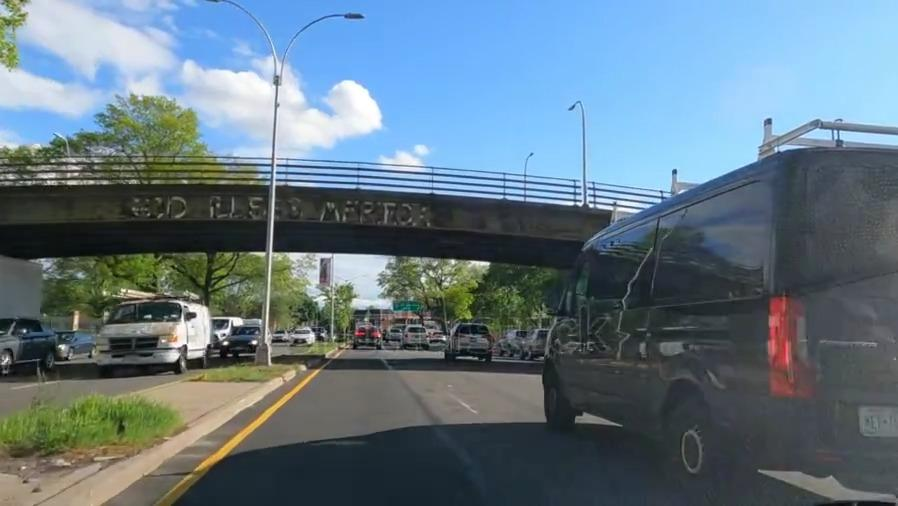car: (0, 315, 64, 377), (446, 322, 495, 365), (222, 319, 272, 357), (399, 321, 433, 350), (349, 322, 383, 351), (499, 326, 523, 357), (529, 324, 544, 364), (292, 324, 315, 347)
van: (573, 144, 891, 487), (87, 299, 214, 370)
wheel: (662, 386, 726, 501), (537, 363, 575, 431)
